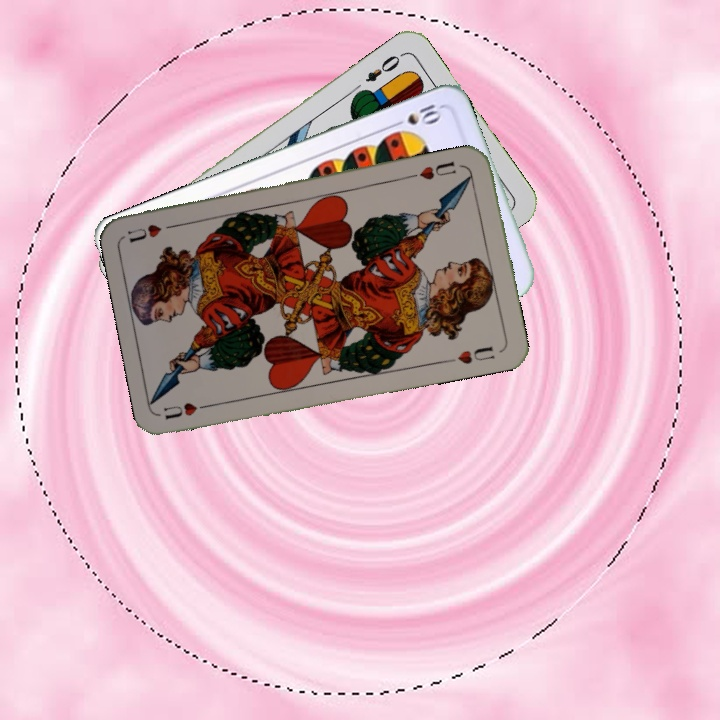EO: (361, 49, 406, 85)
HU: (159, 398, 218, 422), (408, 157, 459, 182)
S10: (387, 100, 445, 130)
